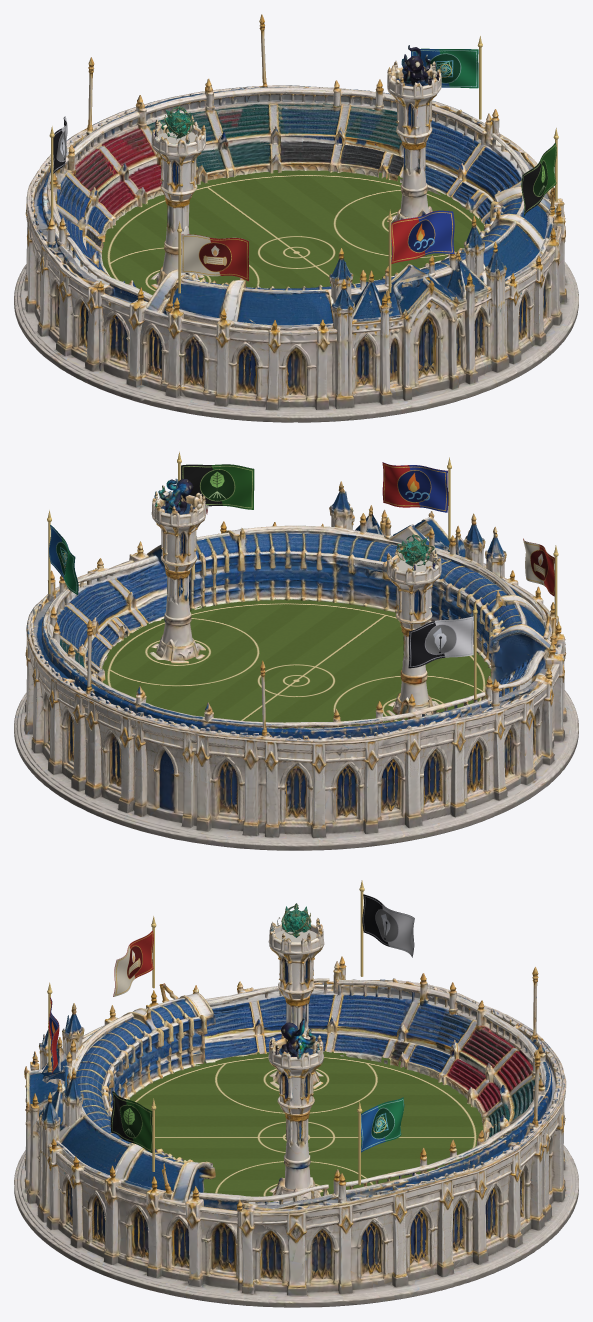
The model's file is arena.glb.
3 views of the same model, one above another, from view 1: azimuth 30°, elevation 25°; view 2: azimuth 150°, elevation 25°; view 3: azimuth 270°, elevation 25° (orthographic).
Visible parts, largest first — view 1: object 8, field, towerR, towerL, flag_prismari, flag_lorehold, flag_quandrix, flag_witherbloom, qcore, flag_silverquill; view 2: object 8, field, towerR, towerL, flag_prismari, flag_witherbloom, flag_silverquill, flag_lorehold, flag_quandrix, qcore; view 3: object 8, field, towerR, towerL, flag_silverquill, flag_witherbloom, flag_quandrix, flag_lorehold, qcore.
Boxes of the visible parts, box(x1,y1,x2,y2) form: object 8: box(14, 14, 578, 422); field: box(102, 170, 484, 295); towerR: box(386, 45, 441, 228); towerL: box(150, 115, 205, 288); flag_prismari: box(391, 210, 454, 263); flag_lorehold: box(181, 234, 248, 281); flag_quandrix: box(411, 48, 478, 88); flag_witherbloom: box(521, 142, 556, 216); qcore: box(163, 106, 194, 138); flag_silverquill: box(53, 116, 68, 173); object 8: box(14, 481, 578, 850); field: box(102, 598, 490, 728); towerR: box(149, 478, 206, 663); towerL: box(385, 544, 441, 719); flag_prismari: box(382, 462, 448, 512); flag_witherbloom: box(181, 464, 254, 509); flag_silverquill: box(408, 616, 473, 668); flag_lorehold: box(523, 538, 554, 596); flag_quandrix: box(49, 525, 78, 594); qcore: box(396, 534, 429, 566); object 8: box(14, 956, 578, 1307); field: box(130, 1051, 485, 1202); towerR: box(268, 1017, 323, 1202); towerL: box(268, 917, 324, 1089); flag_silverquill: box(362, 894, 414, 957); flag_witherbloom: box(110, 1091, 152, 1152); flag_quandrix: box(361, 1097, 404, 1152); flag_lorehold: box(113, 930, 153, 996); qcore: box(282, 903, 310, 937).
Bounding box in the file's own units: 1.9 × 0.8501 × 1.9.
10 materials, 8 textured.
